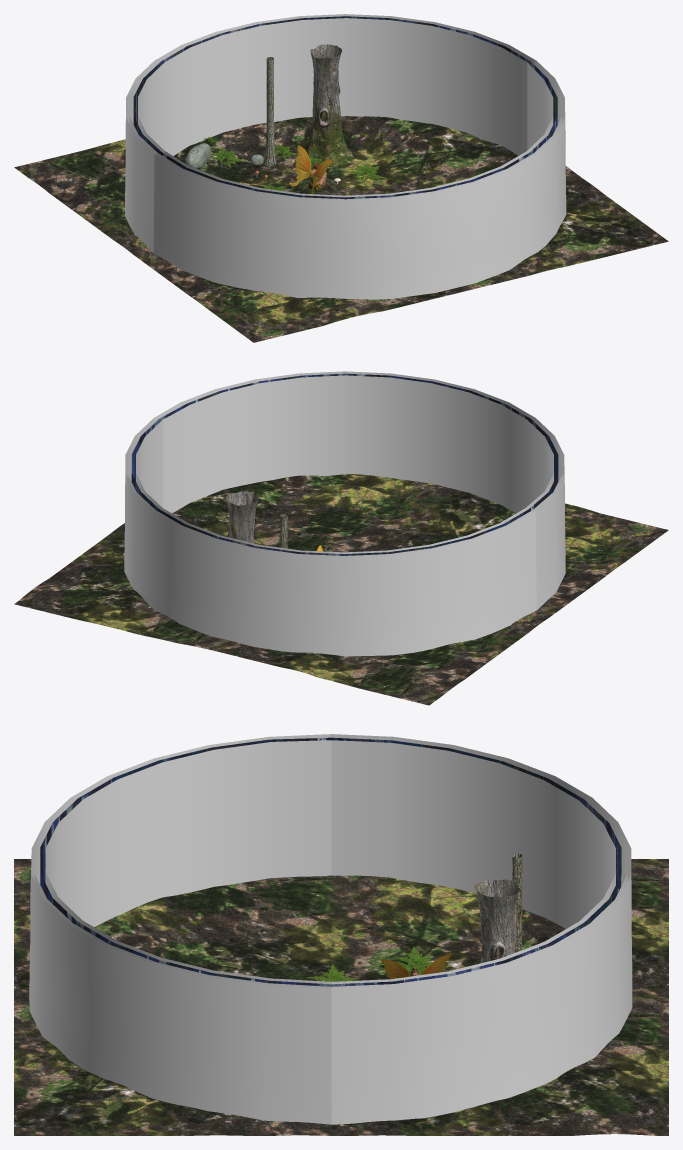
The picture shows the model from 3 angles, top to bottom: view 1: azimuth 30°, elevation 25°; view 2: azimuth 150°, elevation 25°; view 3: azimuth 270°, elevation 25°; orthographic projection. The views are drawn at different scales.
Visible parts, largest first — view 1: TilingTerrain, SkyCentre_Wallsback, SkyRight_Wallsback, Weather_Right, Weather_Centre, Trunk, SkyLeft, SkyLeft_Wallsback, Weather_Left, Weather_Left_Wallsback, Tree, Wing3out (+9 smaller); view 2: TilingTerrain, SkyLeft, SkyCentre, Weather_Centre_Wallsback, Weather_Left_Wallsback, SkyRight_Wallsback, SkyRight, Weather_Right, Weather_Right_Wallsback, Trunk, Cloud_Left, Cloud_Left_Wallsback (+8 smaller); view 3: TilingTerrain, SkyLeft_Wallsback, SkyRight, Weather_Right_Wallsback, Weather_Left, SkyCentre_Wallsback, SkyCentre, Weather_Centre, Weather_Centre_Wallsback, Trunk, Cloud_Right_Wallsback, Cloud_Left (+14 smaller).
Boxes of the visible parts, x1,y1,x2,y2 form: TilingTerrain: [14, 116, 668, 342]; SkyCentre_Wallsback: [345, 154, 537, 299]; SkyRight_Wallsback: [153, 154, 345, 298]; Weather_Right: [346, 18, 527, 155]; Weather_Centre: [164, 18, 345, 155]; Trunk: [297, 44, 354, 167]; SkyLeft: [125, 61, 154, 252]; SkyLeft_Wallsback: [536, 61, 566, 251]; Weather_Left: [138, 63, 164, 153]; Weather_Left_Wallsback: [526, 62, 553, 153]; Tree: [264, 57, 276, 165]; Wing3out: [289, 145, 332, 194]; TilingTerrain: [14, 474, 668, 705]; SkyLeft: [345, 511, 536, 656]; SkyCentre: [153, 511, 344, 656]; Weather_Centre_Wallsback: [346, 375, 526, 513]; Weather_Left_Wallsback: [163, 375, 345, 513]; SkyRight_Wallsback: [536, 418, 565, 609]; SkyRight: [124, 418, 153, 608]; Weather_Right: [136, 420, 162, 510]; Weather_Right_Wallsback: [525, 420, 553, 510]; Trunk: [225, 491, 258, 543]; Cloud_Left: [344, 510, 532, 557]; Cloud_Left_Wallsback: [155, 372, 345, 421]; TilingTerrain: [14, 859, 668, 1135]; SkyLeft_Wallsback: [68, 925, 331, 1124]; SkyRight: [331, 925, 593, 1124]; Weather_Right_Wallsback: [82, 740, 331, 927]; Weather_Left: [331, 740, 579, 928]; SkyCentre_Wallsback: [29, 798, 70, 1058]; SkyCentre: [592, 798, 632, 1057]; Weather_Centre: [579, 801, 615, 925]; Weather_Centre_Wallsback: [46, 800, 82, 924]; Trunk: [474, 879, 520, 963]; Cloud_Right_Wallsback: [72, 735, 331, 802]; Cloud_Left: [331, 735, 589, 803].
Size of the model in its own units: 6.27 by 1.63 by 6.27.
